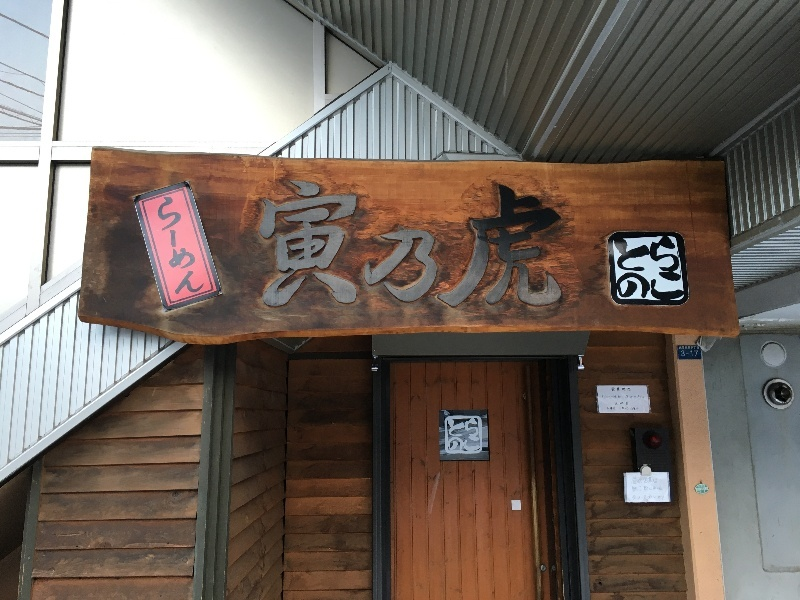text: (273, 180, 288, 308), (289, 180, 304, 308), (305, 180, 320, 308), (321, 180, 336, 308), (337, 180, 352, 308), (353, 180, 368, 308), (369, 180, 384, 308), (385, 180, 400, 308), (401, 180, 416, 308), (417, 180, 432, 308), (433, 180, 448, 308), (449, 180, 464, 308), (465, 180, 480, 308), (481, 180, 496, 308), (497, 180, 512, 308), (513, 180, 528, 308), (529, 180, 544, 308), (545, 180, 560, 308), (177, 194, 192, 299), (193, 194, 206, 299), (262, 180, 272, 308), (561, 180, 569, 308), (625, 237, 640, 283), (641, 237, 656, 283), (657, 237, 672, 283), (614, 237, 624, 283), (673, 237, 683, 283), (625, 272, 640, 301), (641, 272, 656, 301), (657, 272, 672, 301), (673, 272, 684, 301), (449, 418, 464, 438), (465, 418, 479, 438), (465, 436, 481, 452), (449, 436, 464, 452), (616, 272, 624, 301), (641, 477, 656, 485), (641, 486, 656, 492), (611, 387, 624, 392), (643, 495, 656, 500), (689, 351, 699, 357), (626, 395, 640, 399), (633, 477, 640, 485), (609, 395, 621, 399), (632, 486, 640, 492), (681, 351, 688, 357), (625, 407, 639, 410), (657, 486, 663, 492), (657, 495, 664, 500), (632, 496, 640, 500), (689, 346, 699, 349), (625, 387, 631, 392), (614, 402, 624, 405), (679, 346, 688, 349), (602, 395, 608, 399), (609, 407, 615, 410), (657, 477, 659, 485), (641, 395, 644, 399), (625, 402, 629, 405), (622, 407, 624, 410), (607, 407, 608, 410)
